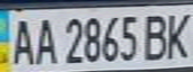2: (60, 12, 84, 65)
5: (118, 11, 145, 62)
6: (100, 12, 124, 63)
8: (81, 12, 103, 64)
A: (6, 15, 36, 66), (30, 14, 57, 65)
B: (139, 10, 172, 61)
K: (163, 9, 193, 61)
